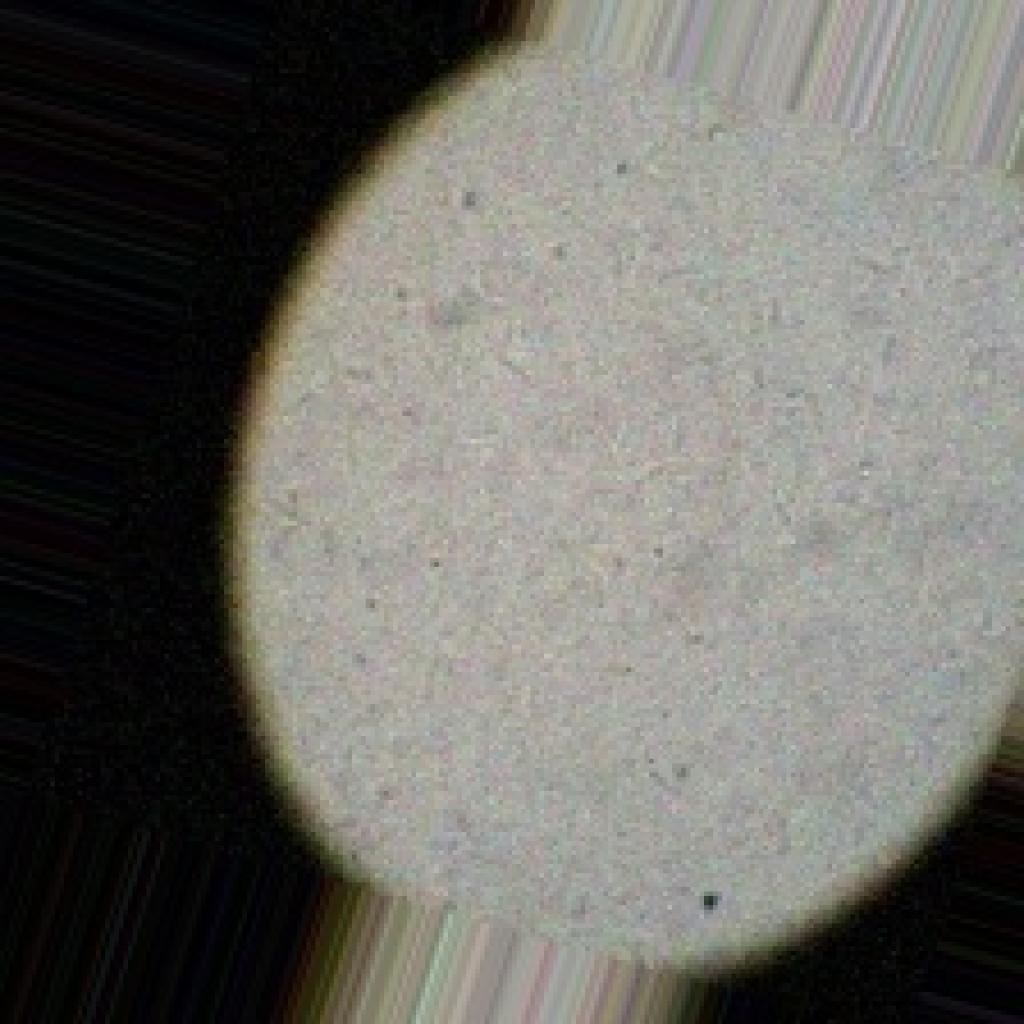Rodbacteria: (206, 32, 1019, 1019)
